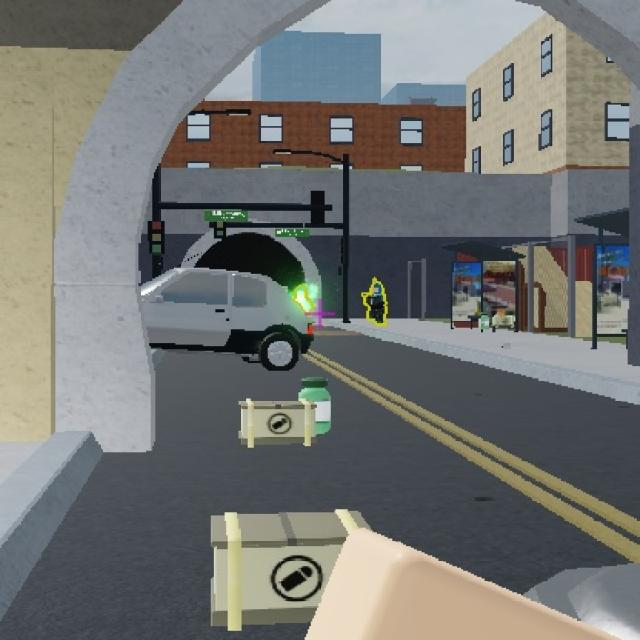player: (357, 273, 391, 322)
